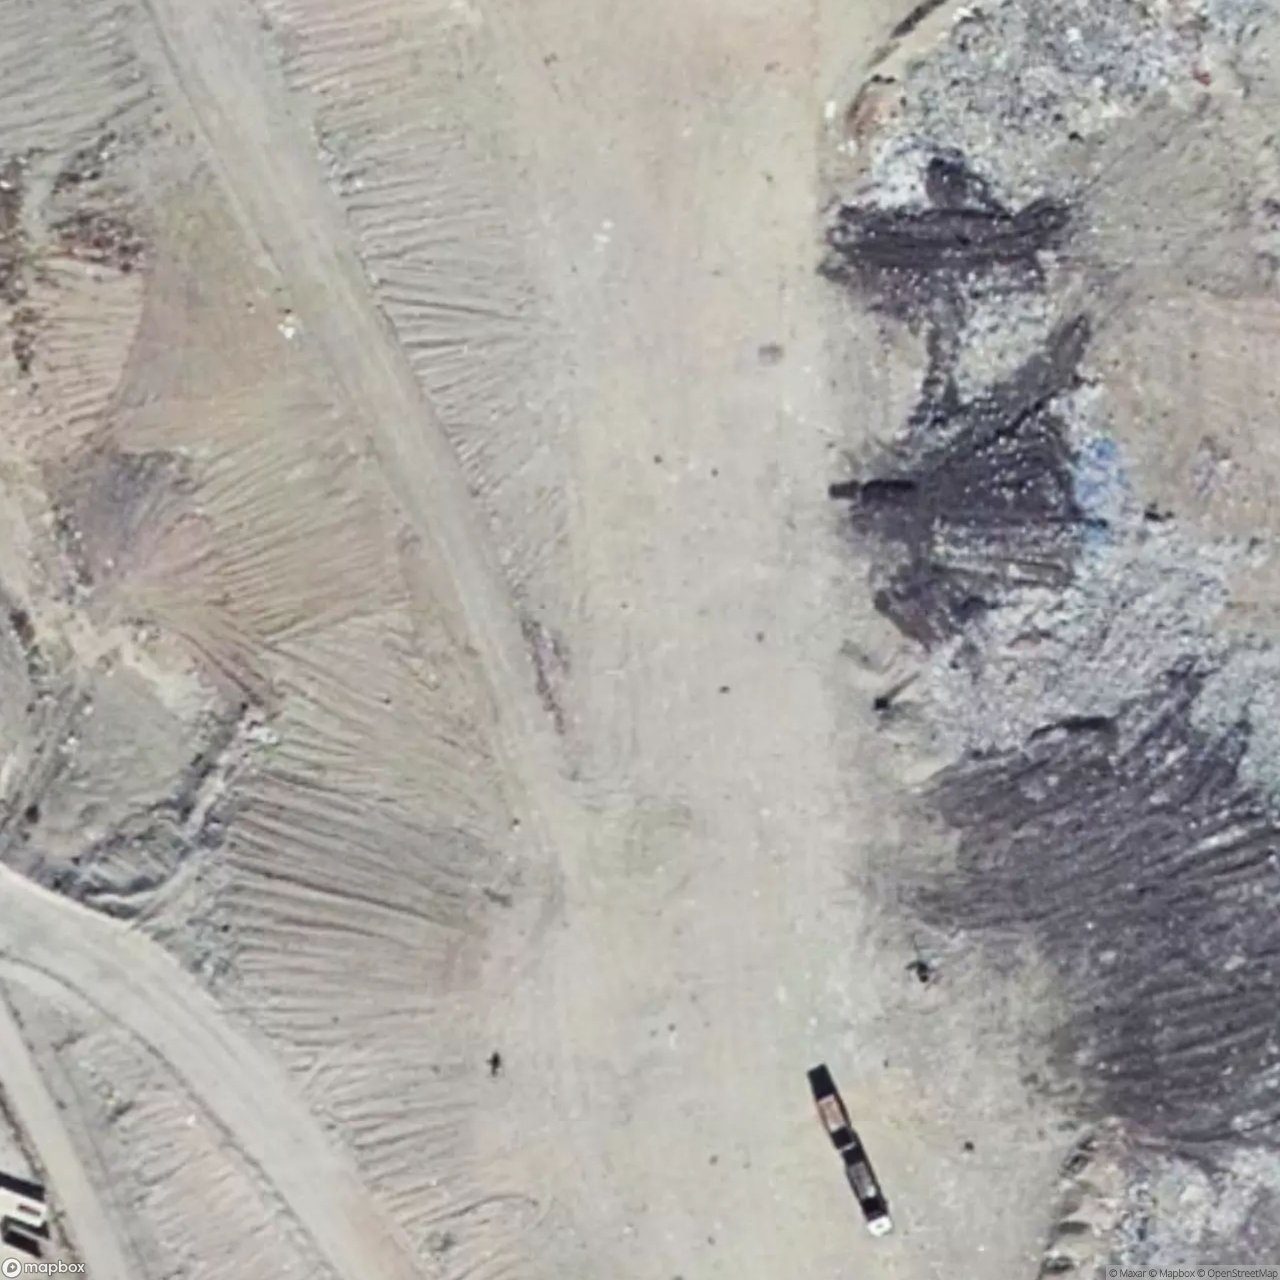dump_site: (844, 0, 1280, 218)
